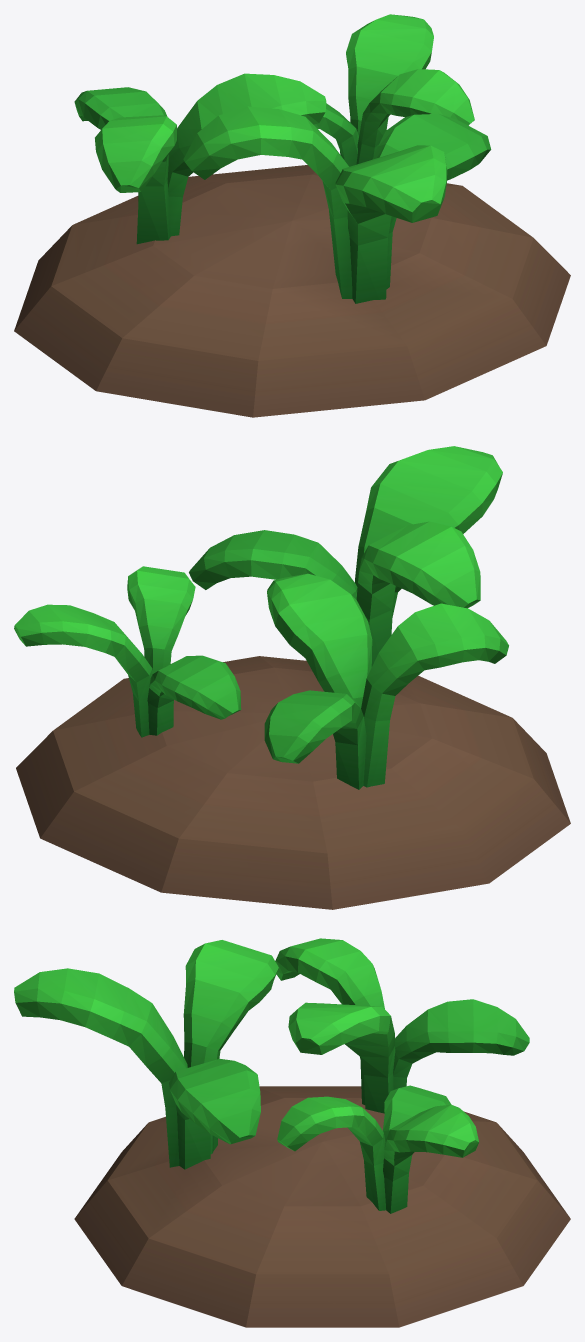
The model's file is crop_stage1.glb.
3 views of the same model, one above another, from view 1: azimuth 30°, elevation 25°; view 2: azimuth 150°, elevation 25°; view 3: azimuth 270°, elevation 25° (orthographic). The views are drawn at different scales.
Parts seen in each view (by area): view 1: crop_stage1; view 2: crop_stage1; view 3: crop_stage1.
Part boxes in pixels (<box>): crop_stage1: <box>14,14,570,417</box>; crop_stage1: <box>14,446,570,909</box>; crop_stage1: <box>14,938,570,1327</box>.
Size of the model in its own units: 0.3614 by 0.18 by 0.3921.
Materials: 1 (1 with a texture image).
